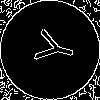Y: (25, 25, 77, 69)
